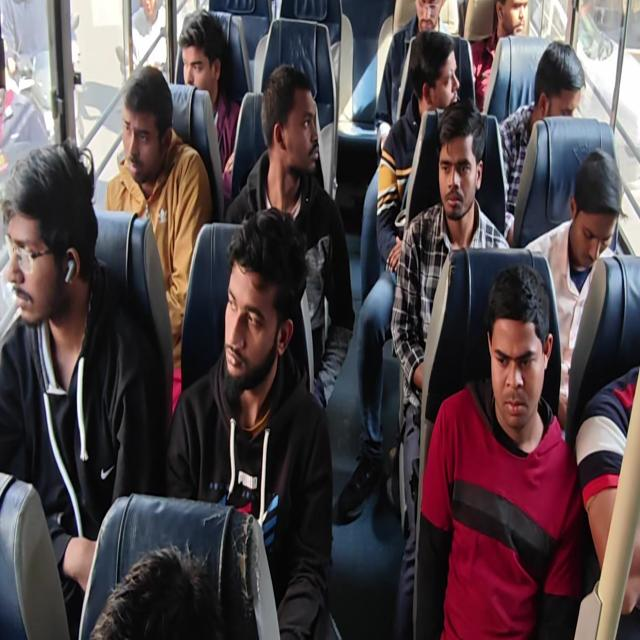person: (1, 1, 638, 638), (0, 138, 162, 638), (164, 206, 335, 638), (412, 262, 586, 638), (390, 99, 510, 636), (336, 29, 462, 524), (224, 63, 355, 409), (105, 64, 213, 417), (524, 147, 623, 427), (375, 29, 461, 273), (498, 39, 585, 243), (574, 364, 640, 626), (89, 543, 225, 639), (374, 0, 455, 158), (178, 9, 241, 200), (469, 0, 529, 112)
